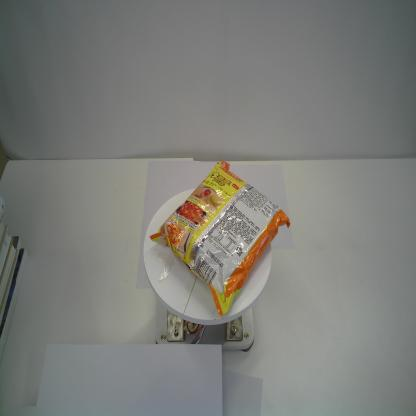Instant Noodles: (148, 160, 292, 320)
